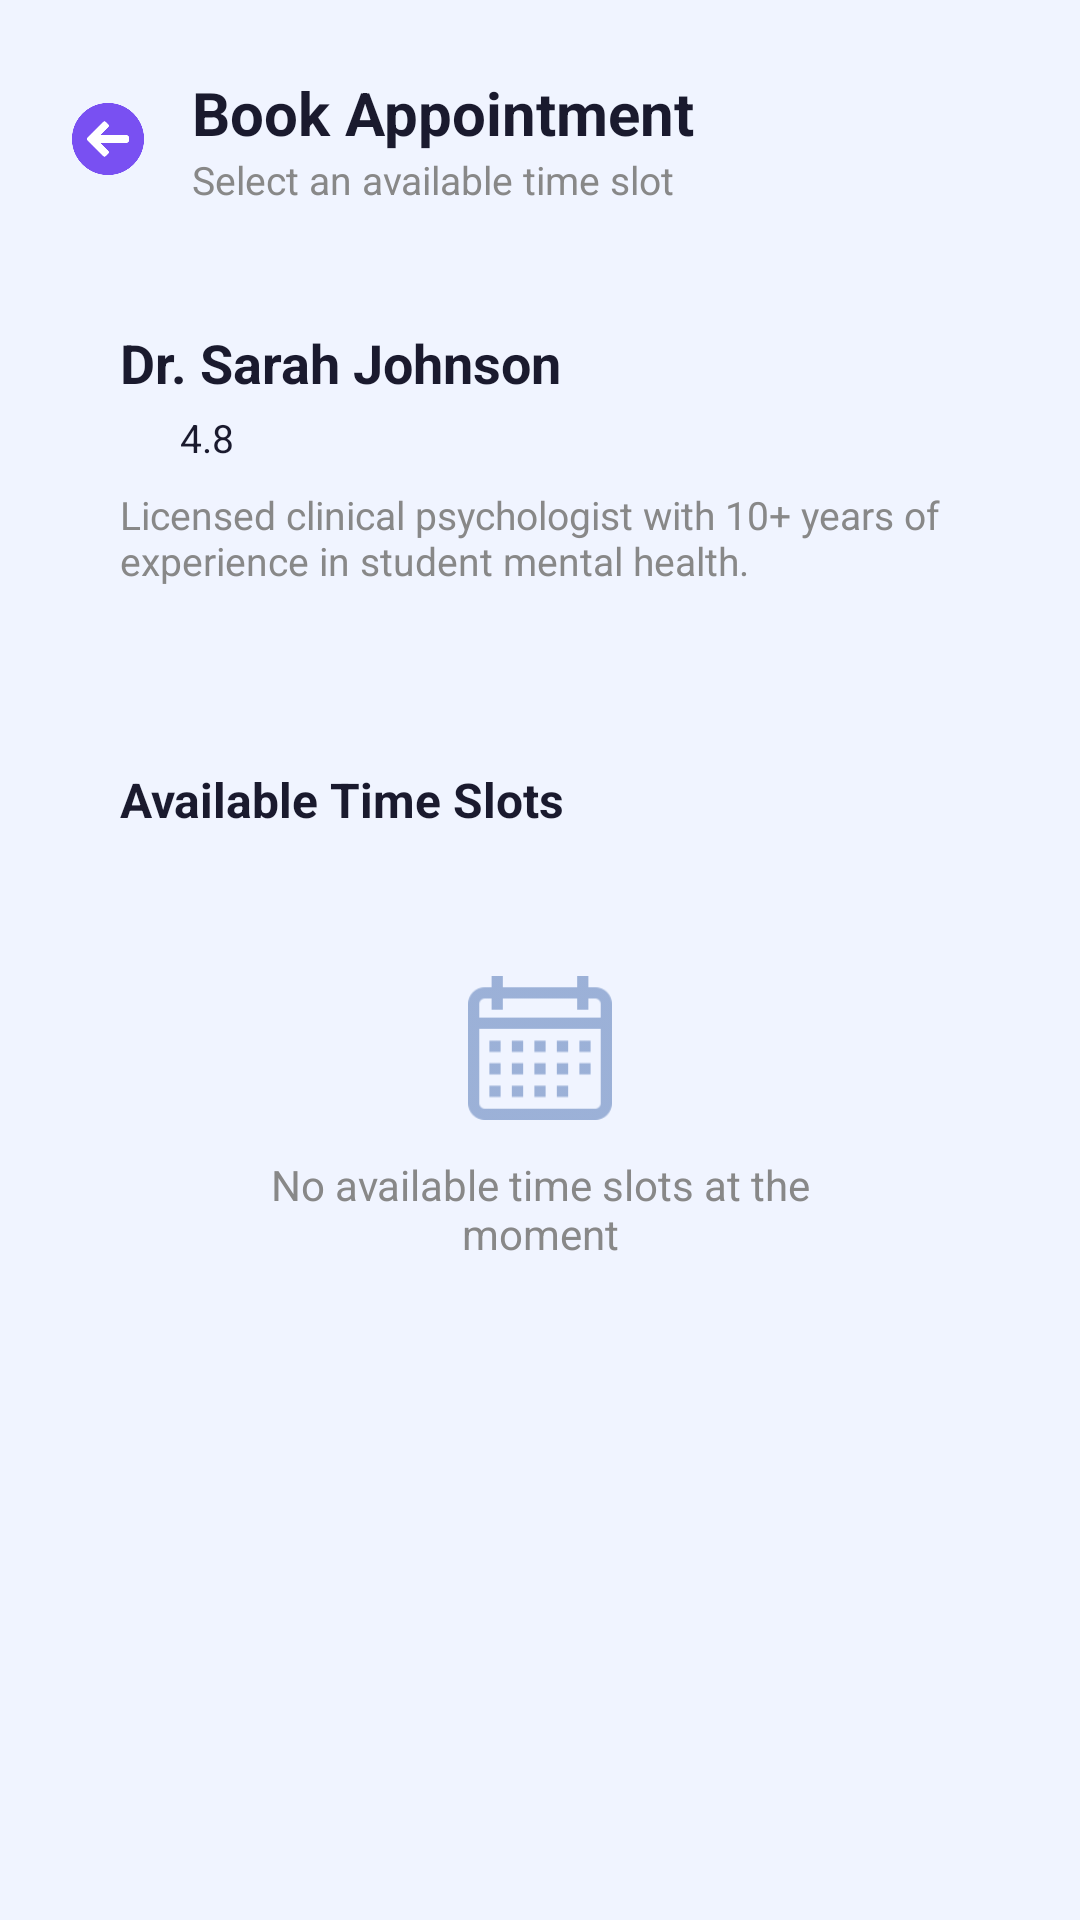

Icons on this 1080x1920 Android screen, each with the point to tap as [x,y]:
back arrow: [108,139]
calender: [540,1048]
